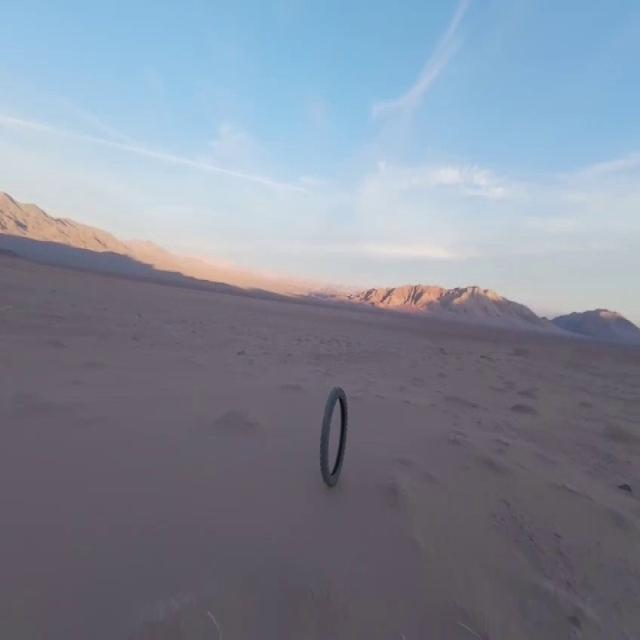Tire: (321, 387, 348, 486)
